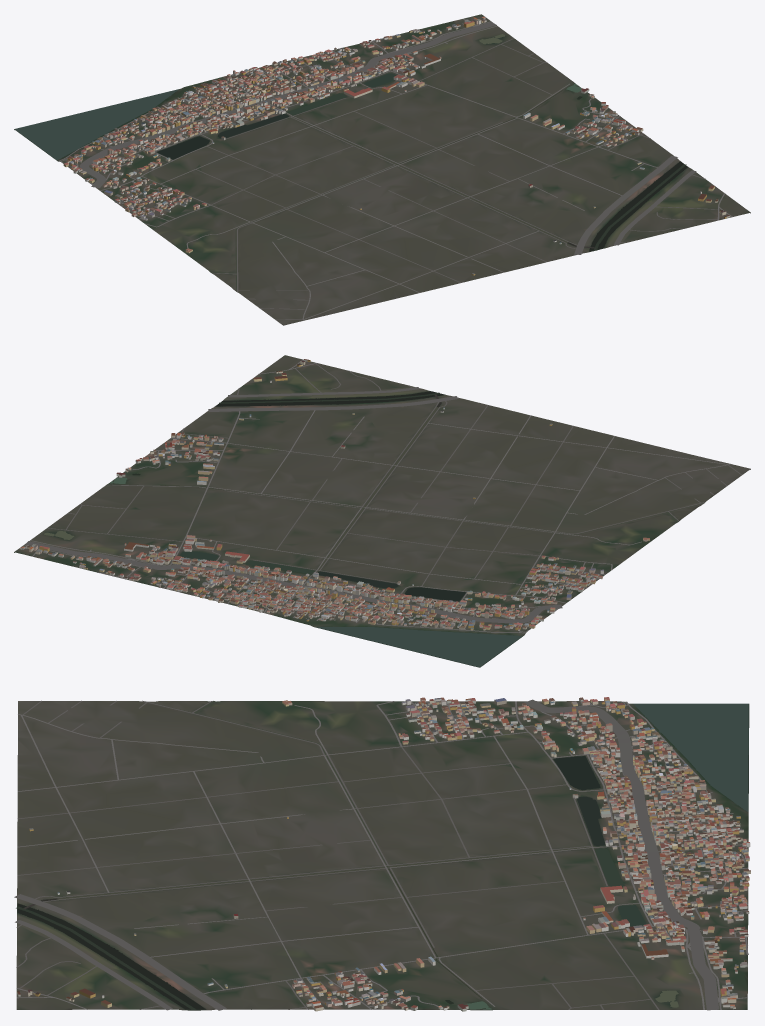
3 renders of one model, top to bottom at view 1: azimuth 30°, elevation 25°; view 2: azimuth 150°, elevation 25°; view 3: azimuth 270°, elevation 25°, orthographic. The views are drawn at different scales.
Parts seen in each view (by area): view 1: ground, buildings, roads, water; view 2: ground, buildings, roads, water; view 3: ground, buildings, roads, water.
Part boxes in pixels (<box>): ground: <box>14,14,750,325</box>; buildings: <box>63,16,730,275</box>; roads: <box>59,18,732,320</box>; water: <box>15,34,687,291</box>; ground: <box>14,355,750,667</box>; buildings: <box>20,359,649,630</box>; roads: <box>24,359,741,633</box>; water: <box>44,391,703,667</box>; ground: <box>16,701,749,1010</box>; buildings: <box>17,697,750,1011</box>; roads: <box>14,699,748,1010</box>; water: <box>16,701,748,1010</box>.
Size of the model in its own units: 1414 by 21.73 by 1413.
